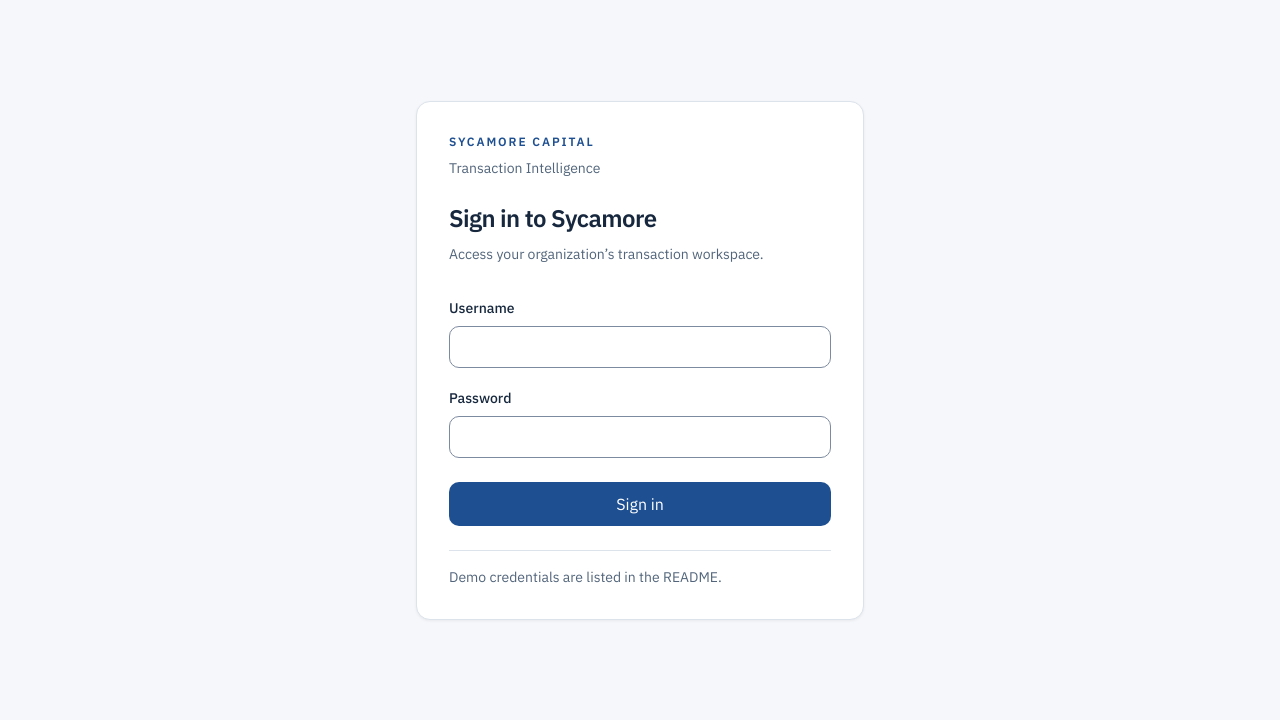
Test case: transaction review detail flow › dismisses the dialog on Escape and keeps Tab inside it
Type "analyst@example.test" into the field labelled "Username" at (640, 346), box [449,326,831,368]
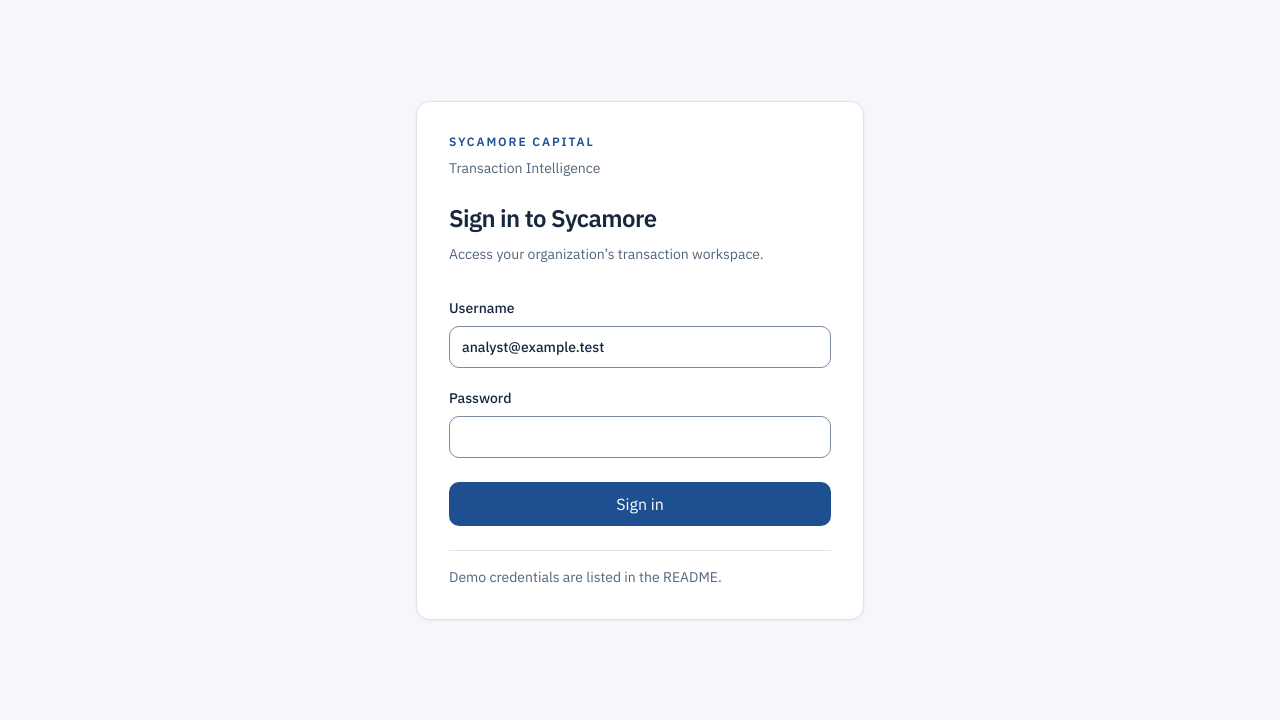
Type "password" into the password field labelled "Password" at (640, 436), box [449,416,831,458]
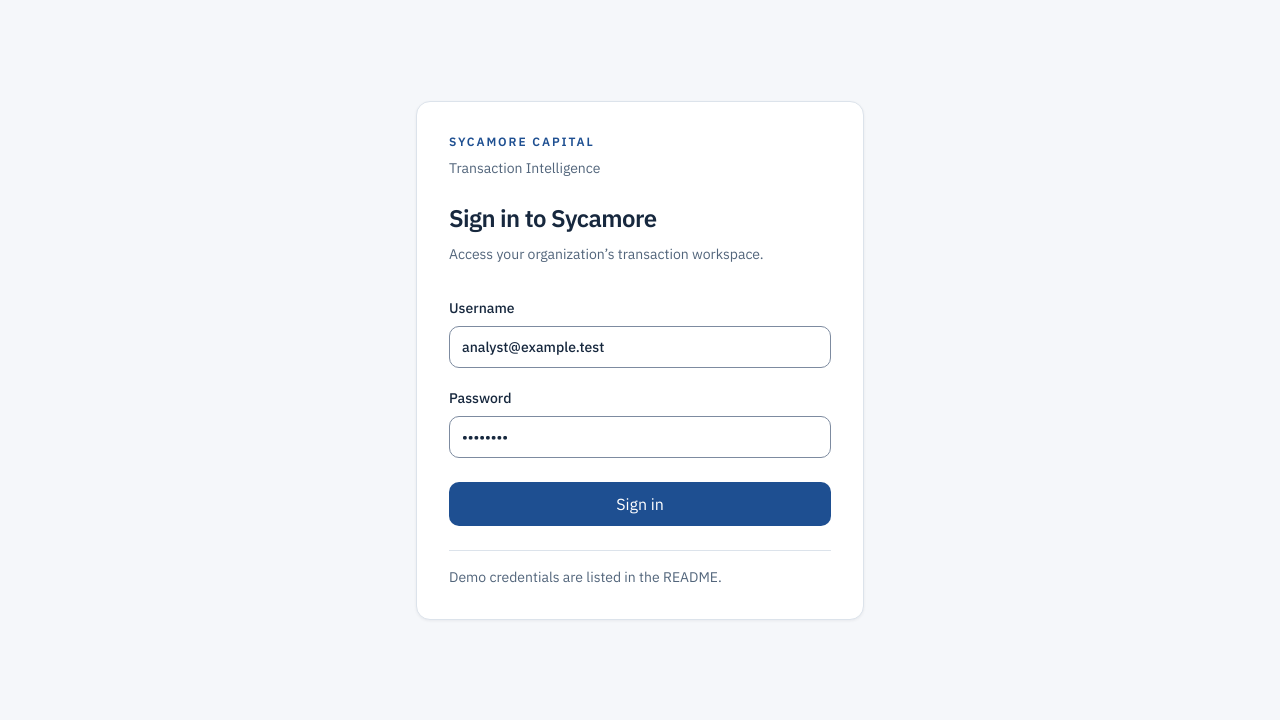
Click the button "Sign in" at (640, 504), box [449,482,831,526]
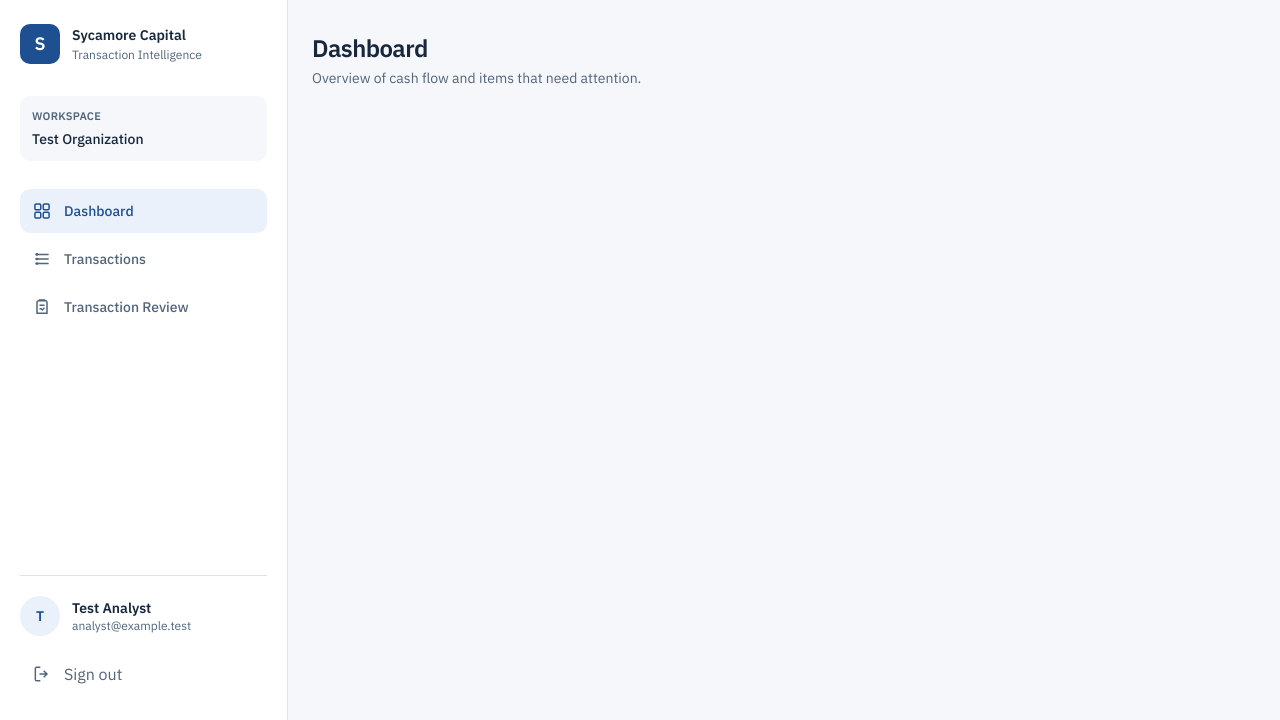
Click the link "Transaction Review" at (110, 306), box [32,296,189,316]
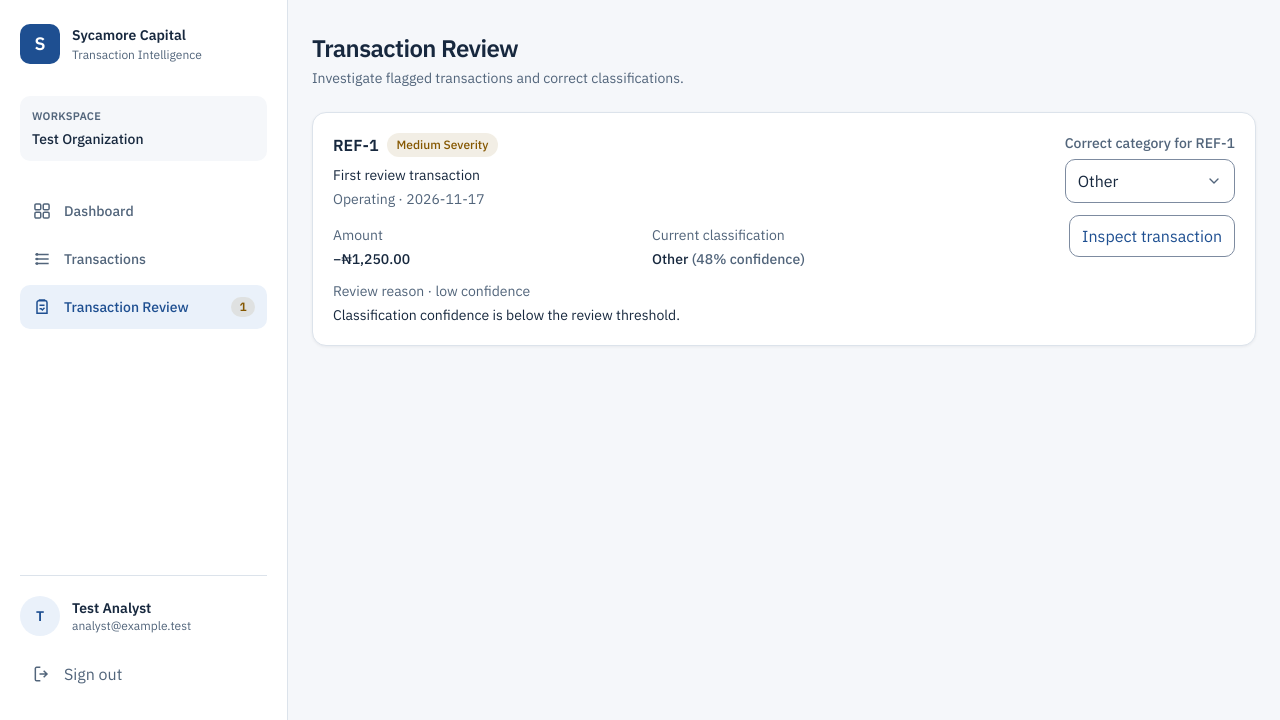
Click the button with aria-label "Inspect REF-1" at (1152, 236), box [1069,215,1235,257]
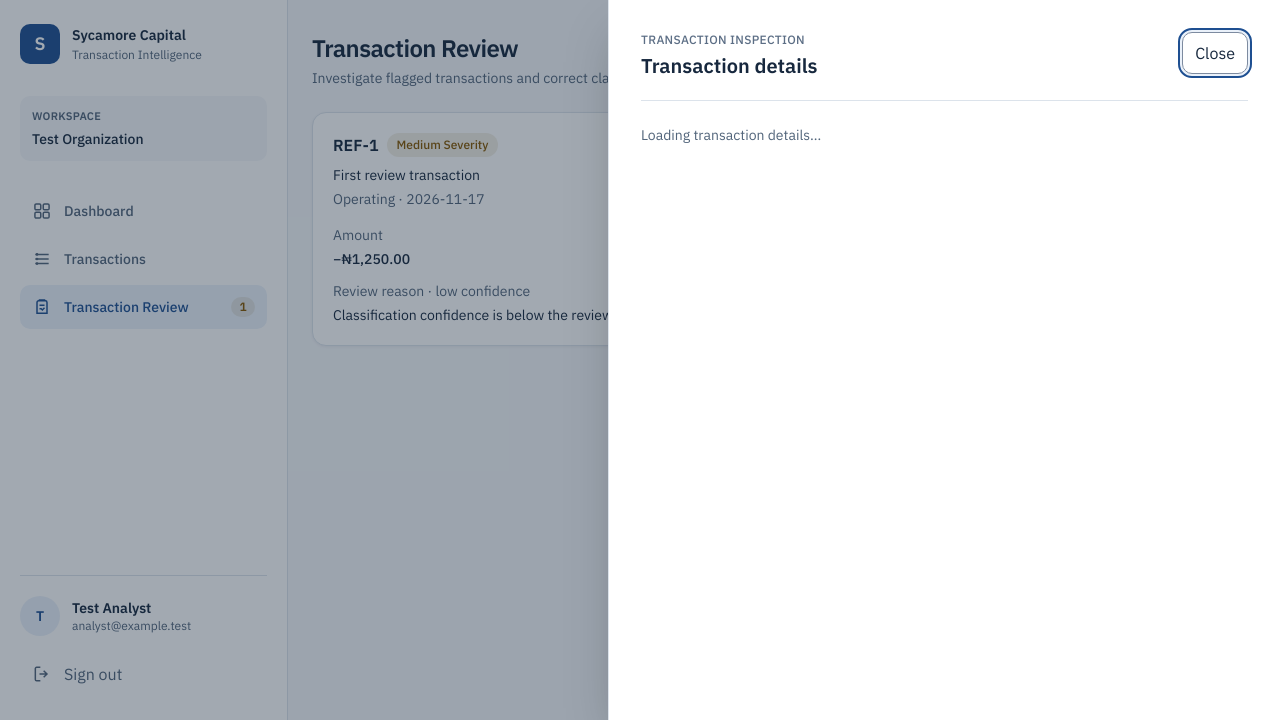
Press Tab in the button with aria-label "Close transaction details", box [1182,32,1248,74]
Press Escape
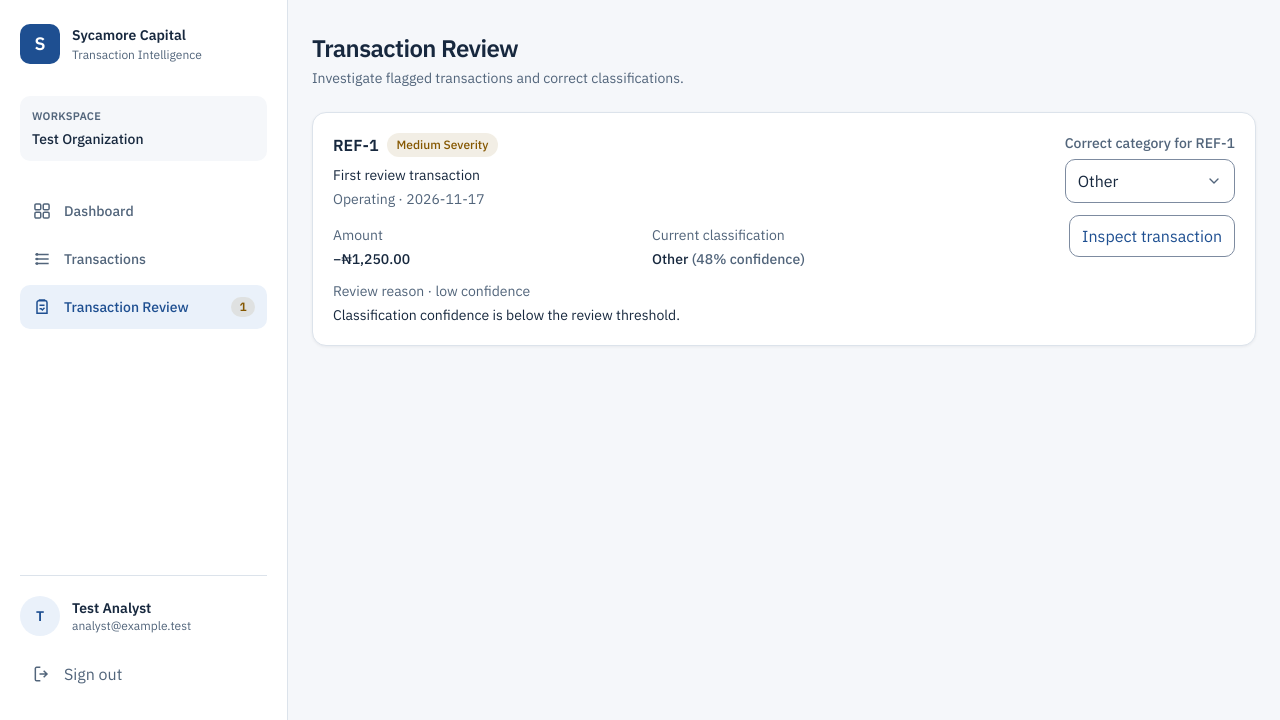
Result: the dialog is gone
